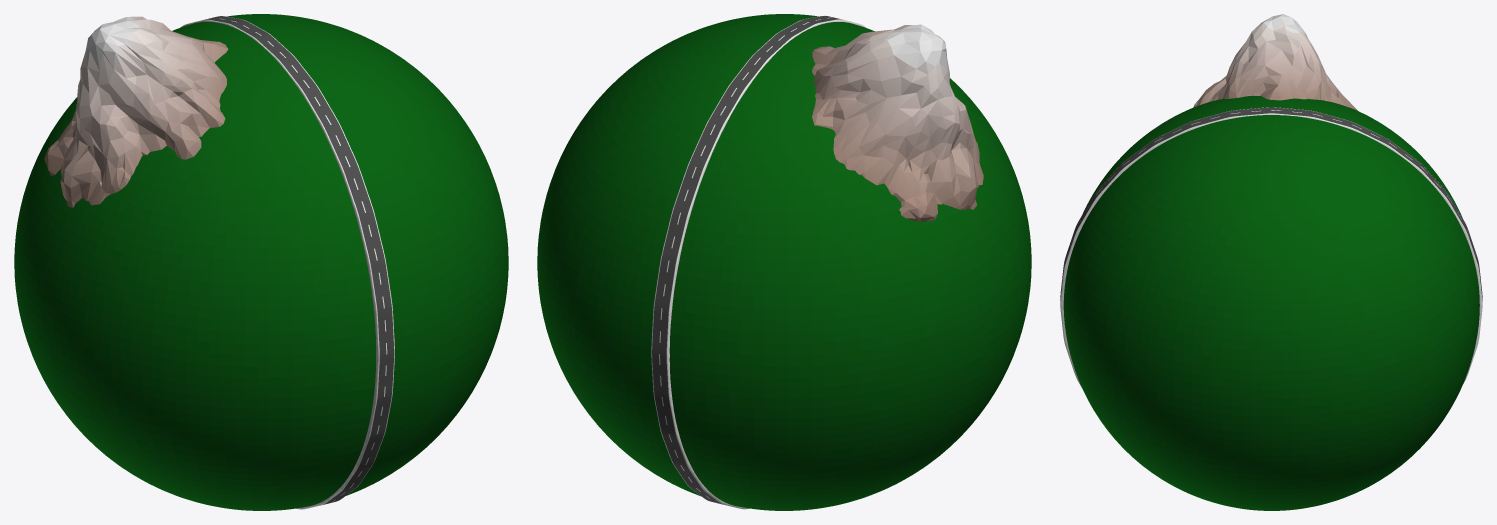
The model's file is terrain-transformed.glb.
3 renders of one model, left to right at view 1: azimuth 30°, elevation 25°; view 2: azimuth 150°, elevation 25°; view 3: azimuth 270°, elevation 25°, orthographic. The views are drawn at different scales.
Visible parts, largest first — view 1: planet, mountin-node-mesh, road; view 2: planet, mountin-node-mesh, road; view 3: planet, mountin-node-mesh, road.
Boxes of the visible parts, x1=… form: planet: x1=14, y1=14, x2=508, y2=510; mountin-node-mesh: x1=44, y1=16, x2=228, y2=207; road: x1=180, y1=16, x2=394, y2=509; planet: x1=537, y1=14, x2=1031, y2=510; mountin-node-mesh: x1=812, y1=24, x2=983, y2=221; road: x1=651, y1=15, x2=866, y2=509; planet: x1=1063, y1=96, x2=1479, y2=510; mountin-node-mesh: x1=1193, y1=14, x2=1357, y2=110; road: x1=1060, y1=107, x2=1482, y2=387.
Bounding box in the file's own units: 107 × 118 × 108.
4 materials, 1 textured.
